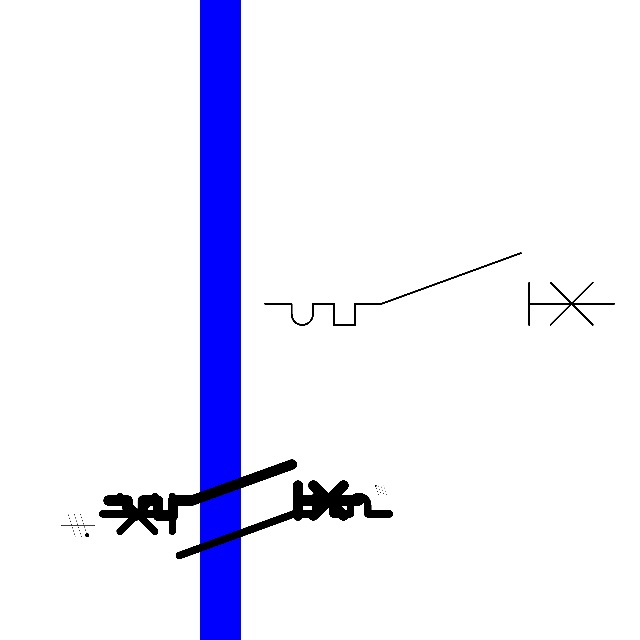interruptor_termomagnetico: (256, 244, 623, 334), (95, 489, 397, 563), (102, 458, 365, 522)
